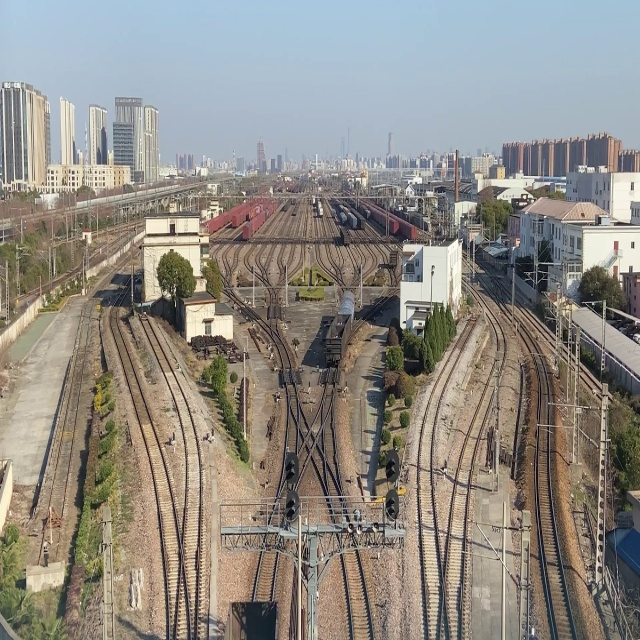train: (325, 288, 357, 363)
